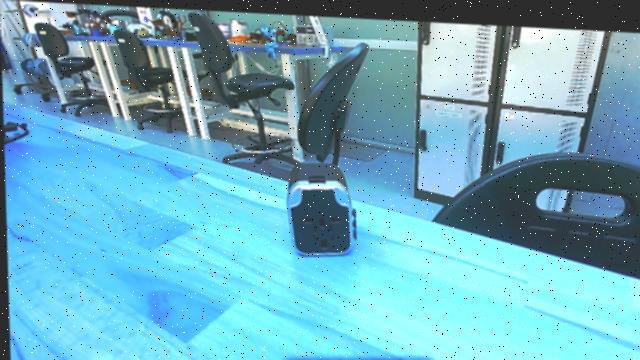adapter: (278, 156, 363, 260)
